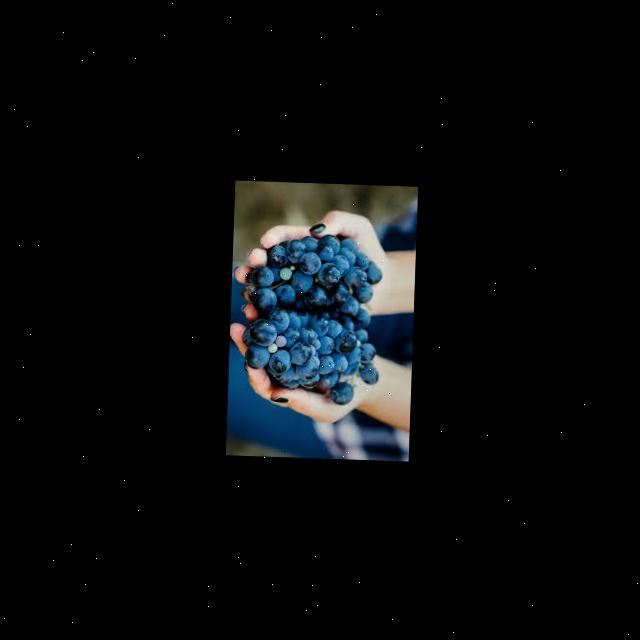grape: (236, 225, 384, 406)
